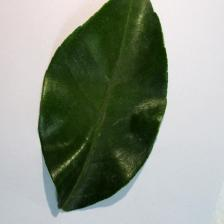healthy: (40, 1, 169, 211)
